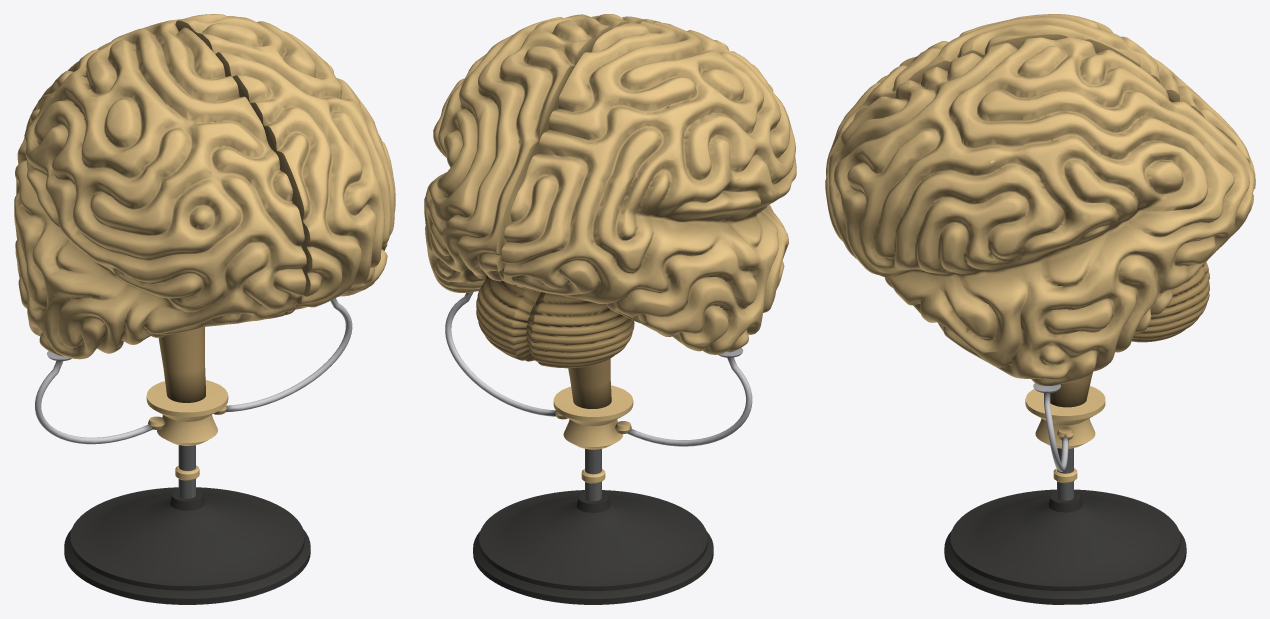
The model's file is intelligence.glb.
3 renders of one model, left to right at view 1: azimuth 30°, elevation 25°; view 2: azimuth 150°, elevation 25°; view 3: azimuth 270°, elevation 25°, orthographic. The views are drawn at different scales.
Parts seen in each view (by area): view 1: intelligence_brass, stand_base, intelligence_steel, intelligence_brass_dark; view 2: intelligence_brass, stand_base, intelligence_brass_dark, intelligence_steel; view 3: intelligence_brass, stand_base, intelligence_brass_dark, intelligence_steel.
Boxes of the visible parts, <box> form: intelligence_brass: <box>14,14,395,480</box>; stand_base: <box>64,487,310,604</box>; intelligence_steel: <box>35,296,352,498</box>; intelligence_brass_dark: <box>158,327,205,402</box>; intelligence_brass: <box>424,14,796,483</box>; stand_base: <box>473,490,713,604</box>; intelligence_brass_dark: <box>476,277,634,408</box>; intelligence_steel: <box>445,289,752,501</box>; intelligence_brass: <box>825,14,1255,483</box>; stand_base: <box>944,489,1186,604</box>; intelligence_brass_dark: <box>1050,262,1209,407</box>; intelligence_steel: <box>1033,383,1073,500</box>.
Size of the model in its own units: 7.22 by 11.48 by 8.6.
